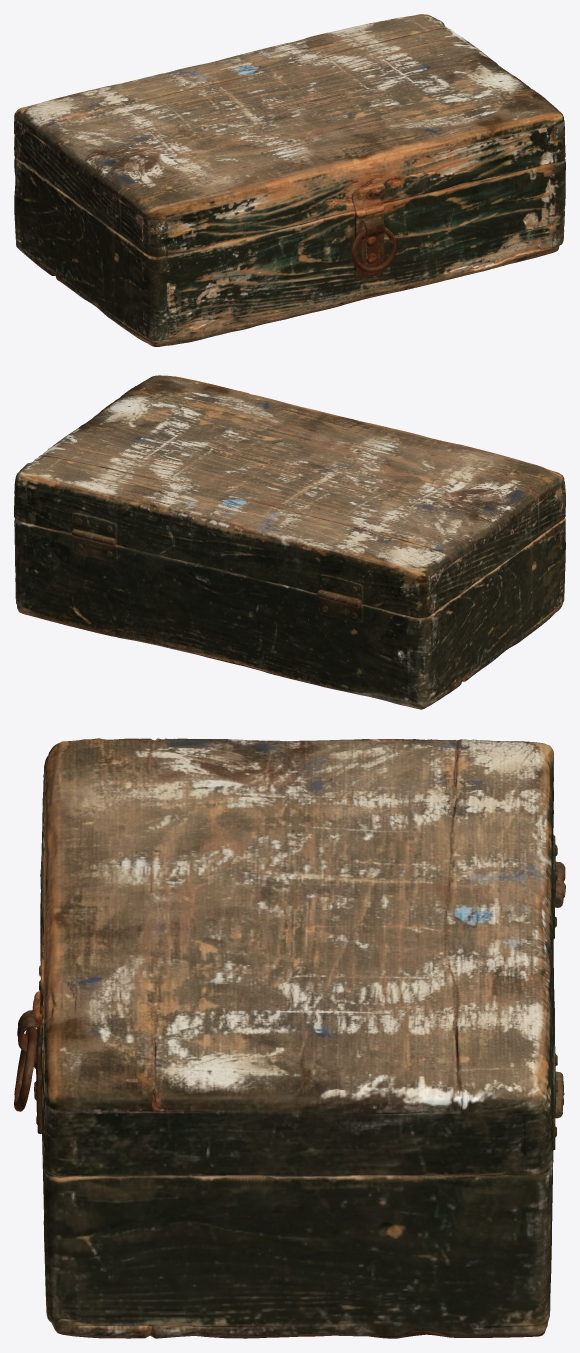
File: sanduk.glb
3 views of the same model, one above another, from view 1: azimuth 30°, elevation 25°; view 2: azimuth 150°, elevation 25°; view 3: azimuth 270°, elevation 25° (orthographic). The views are drawn at different scales.
Bounding box in the file's own units: 1.9 × 0.6352 × 1.23.
Materials: 1 (1 with a texture image).
